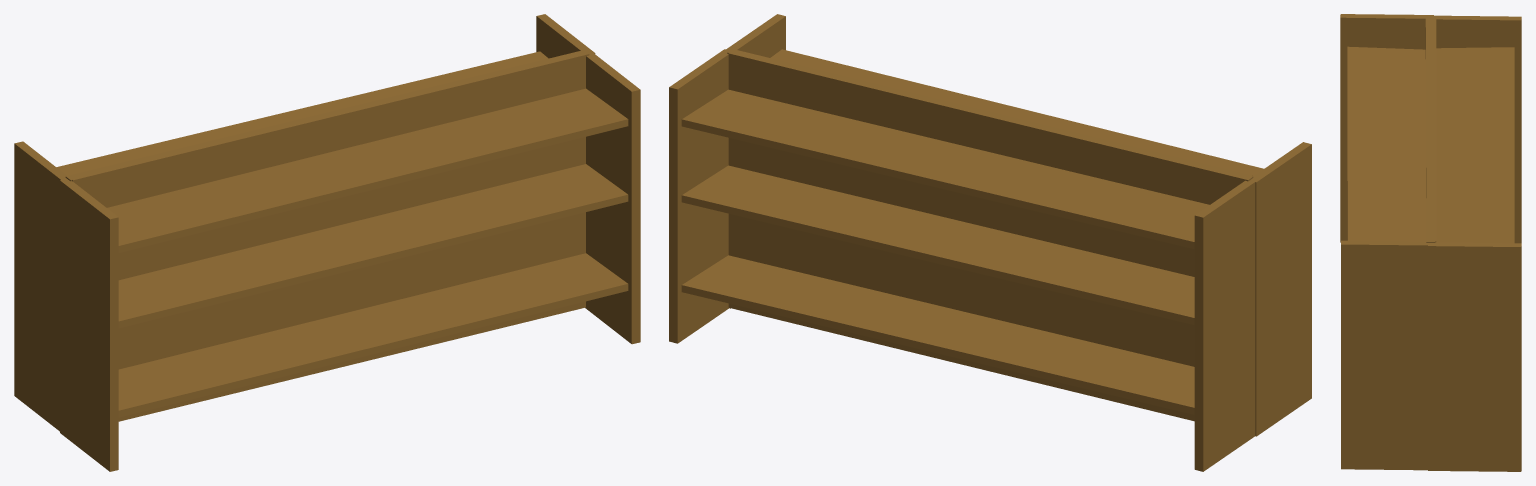
File: estante doble.glb
3 views of the same model, side by side, from view 1: azimuth 30°, elevation 25°; view 2: azimuth 150°, elevation 25°; view 3: azimuth 270°, elevation 25° (orthographic). The views are drawn at different scales.
Visible parts, largest first — view 1: Cubo.005; view 2: Cubo.005; view 3: Cubo.005.
Part boxes in pixels (x1,y1,x2,y2): Cubo.005: (14, 14, 640, 471); Cubo.005: (669, 14, 1311, 471); Cubo.005: (1340, 14, 1521, 471).
Bounding box in the file's own units: 8.27 × 3.74 × 2.72.
